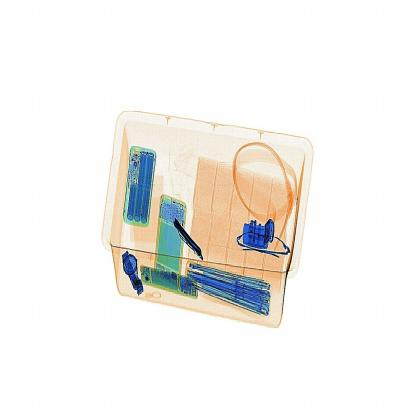knife: (173, 221, 207, 259)
